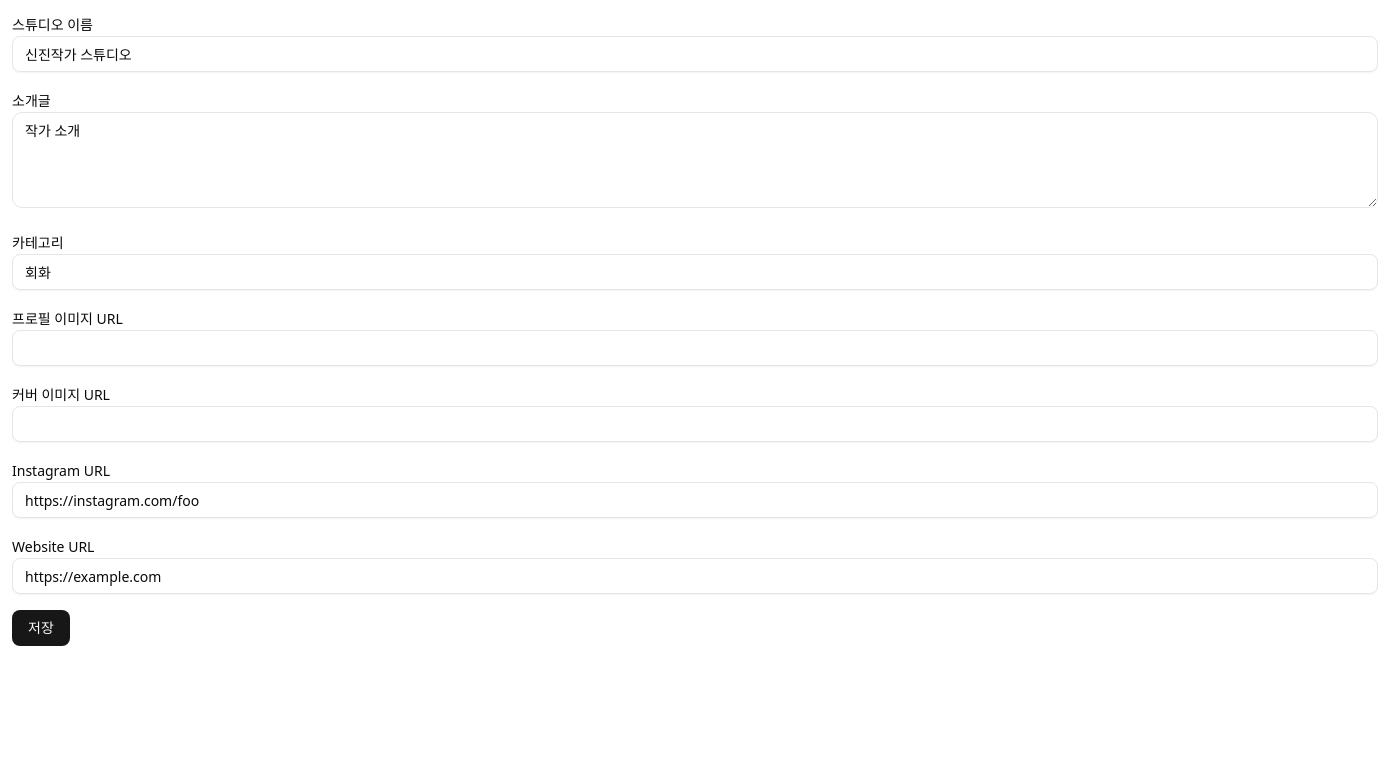
StudioEditForm (AC-005) › shows error message on non-200 response
Click the button "저장" at x=41, y=628, box [12, 610, 70, 646]
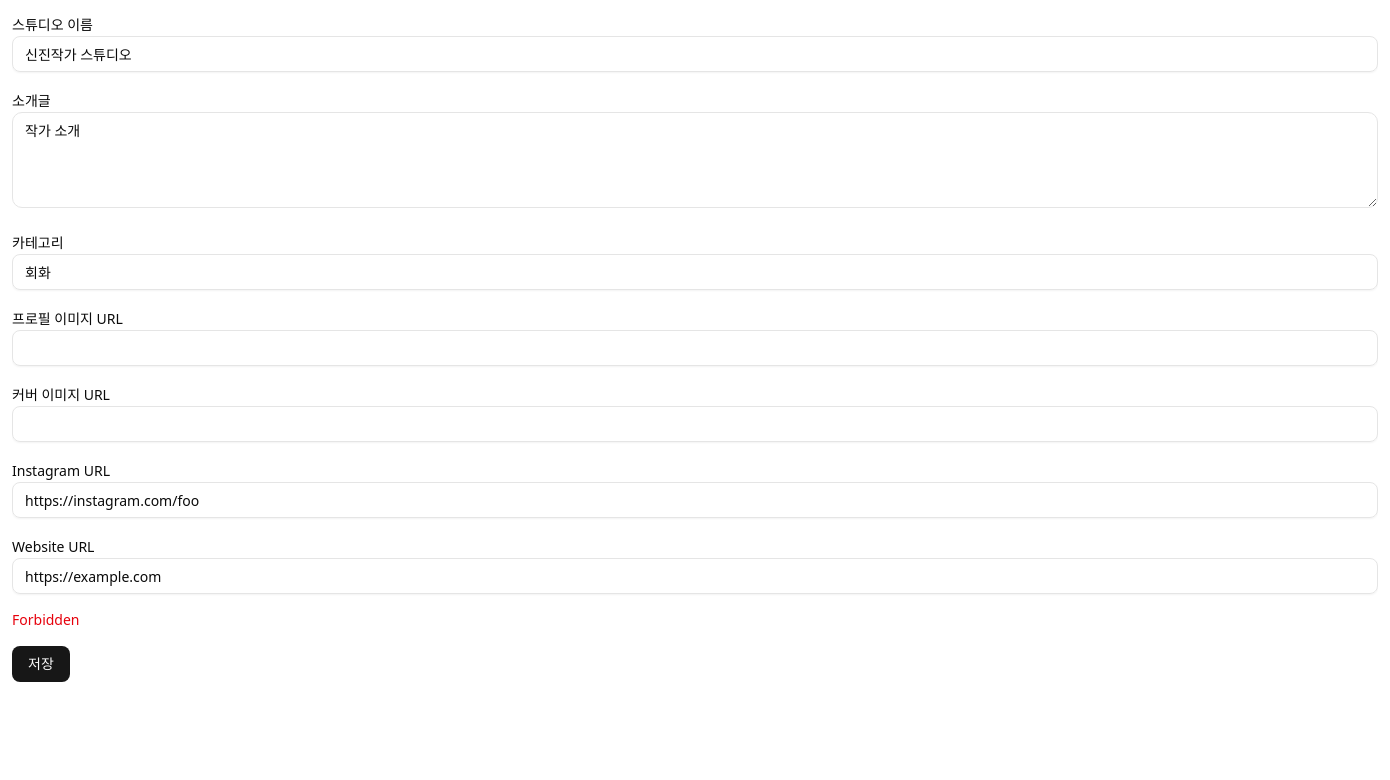
expect the text "Forbidden" is shown: met, box [12, 610, 80, 629]
